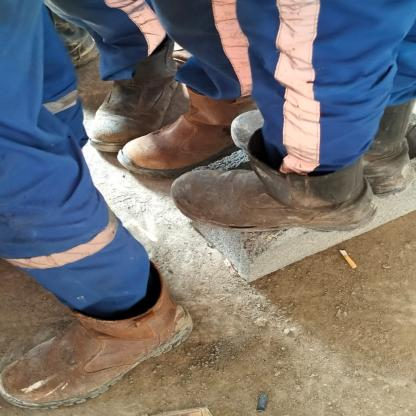bota: (0, 269, 206, 408), (168, 147, 366, 238), (118, 91, 263, 177), (87, 47, 176, 151)
